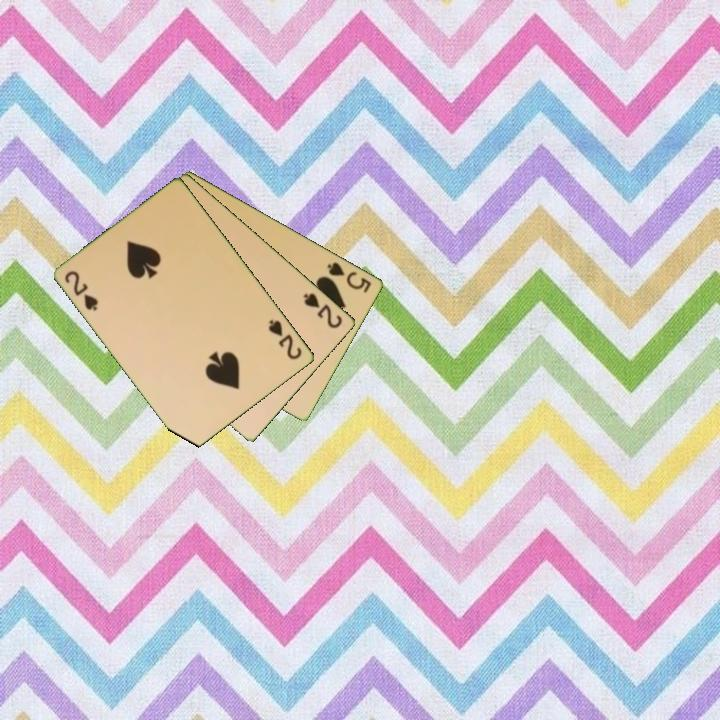2s: (300, 289, 346, 331), (61, 267, 102, 314), (265, 316, 305, 363)
5s: (324, 258, 375, 296)
